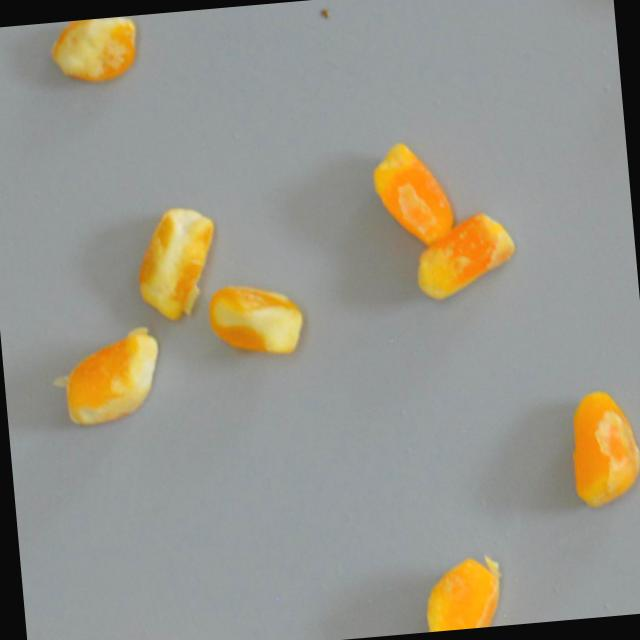dañado: (45, 320, 165, 430), (126, 198, 222, 327), (362, 132, 460, 257), (407, 204, 520, 306), (201, 271, 309, 369), (562, 382, 640, 514), (416, 548, 509, 632), (47, 15, 143, 91)
